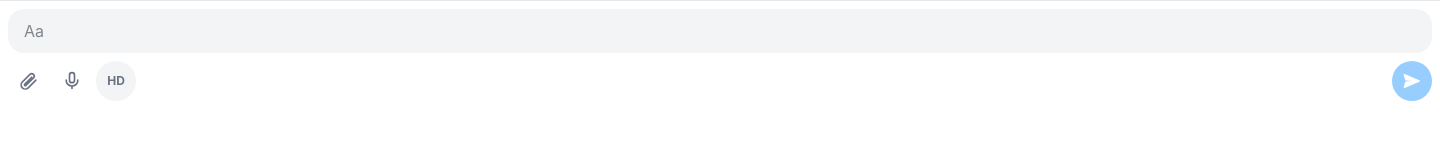
it: Composer send failure › restores the text and shows the server error when a send is rejected
Type "hello" into the text box with placeholder "Aa". click: (720, 31)
box: [8,9,1432,53]
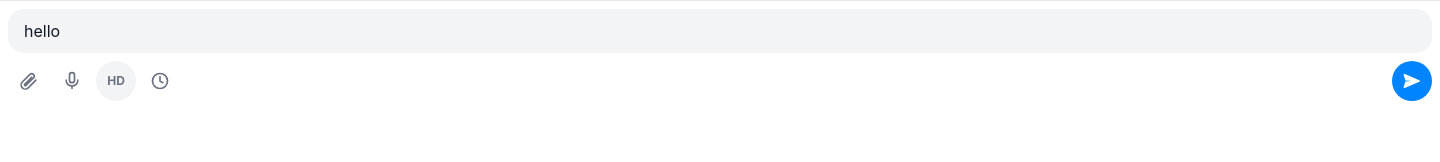
Click the button named "send". click: (1412, 81)
box: [1392,61,1432,101]
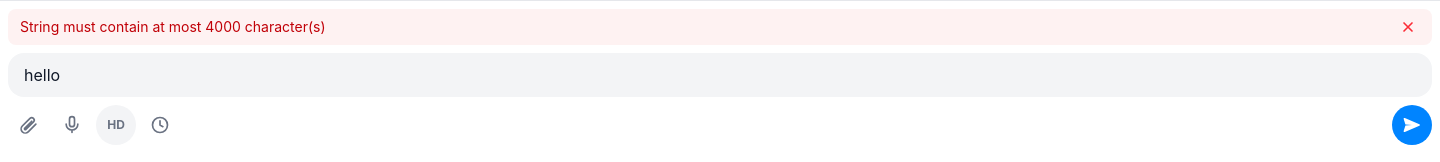
Expected: the message reads "String must contain at most 4000 character(s)", [20,18,326,35]
Note: Retrying the send clears the error banner.
Click the button named "send". click: (1412, 125)
box: [1392,105,1432,145]
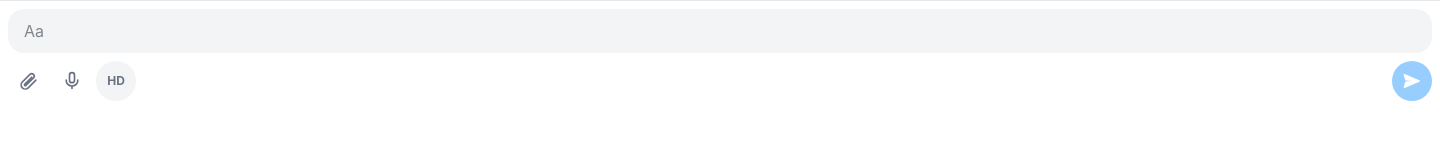
Expected: the message "String must contain at most 4000 character(s)" is gone
Type "again" into the text box with placeholder "Aa". click: (720, 31)
box: [8,9,1432,53]
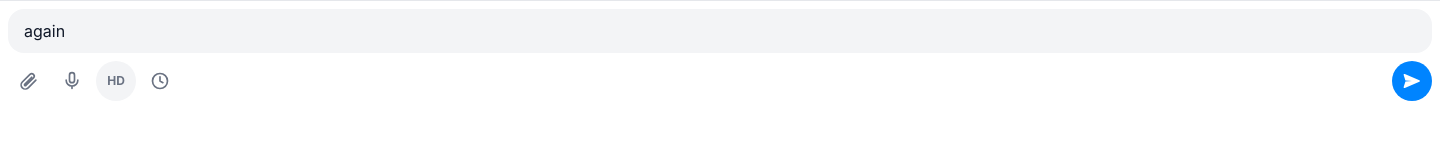
Click the button named "send". click: (1412, 81)
box: [1392,61,1432,101]
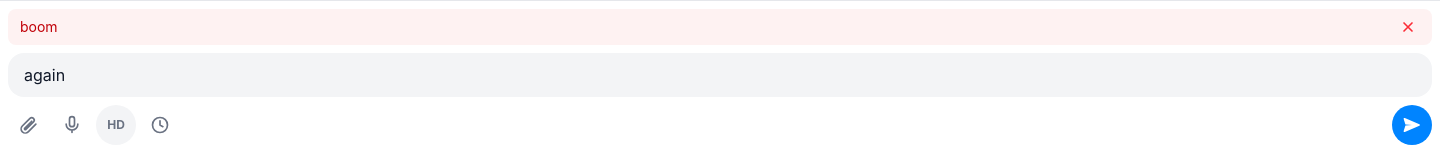
Expected: the message "boom" is shown, [8,9,1432,45]
Click the button named "dismiss error". click: (1408, 27)
box: [1396,15,1420,39]
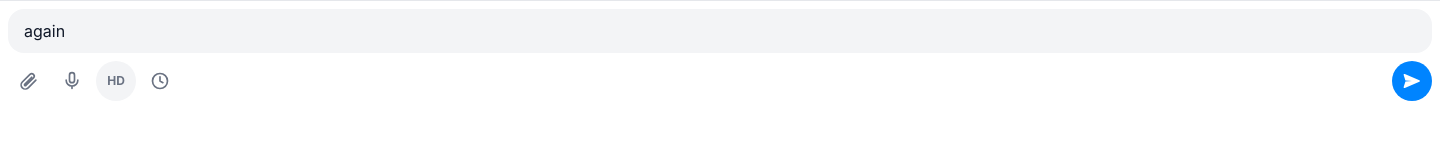
Expected: the message "boom" is gone
